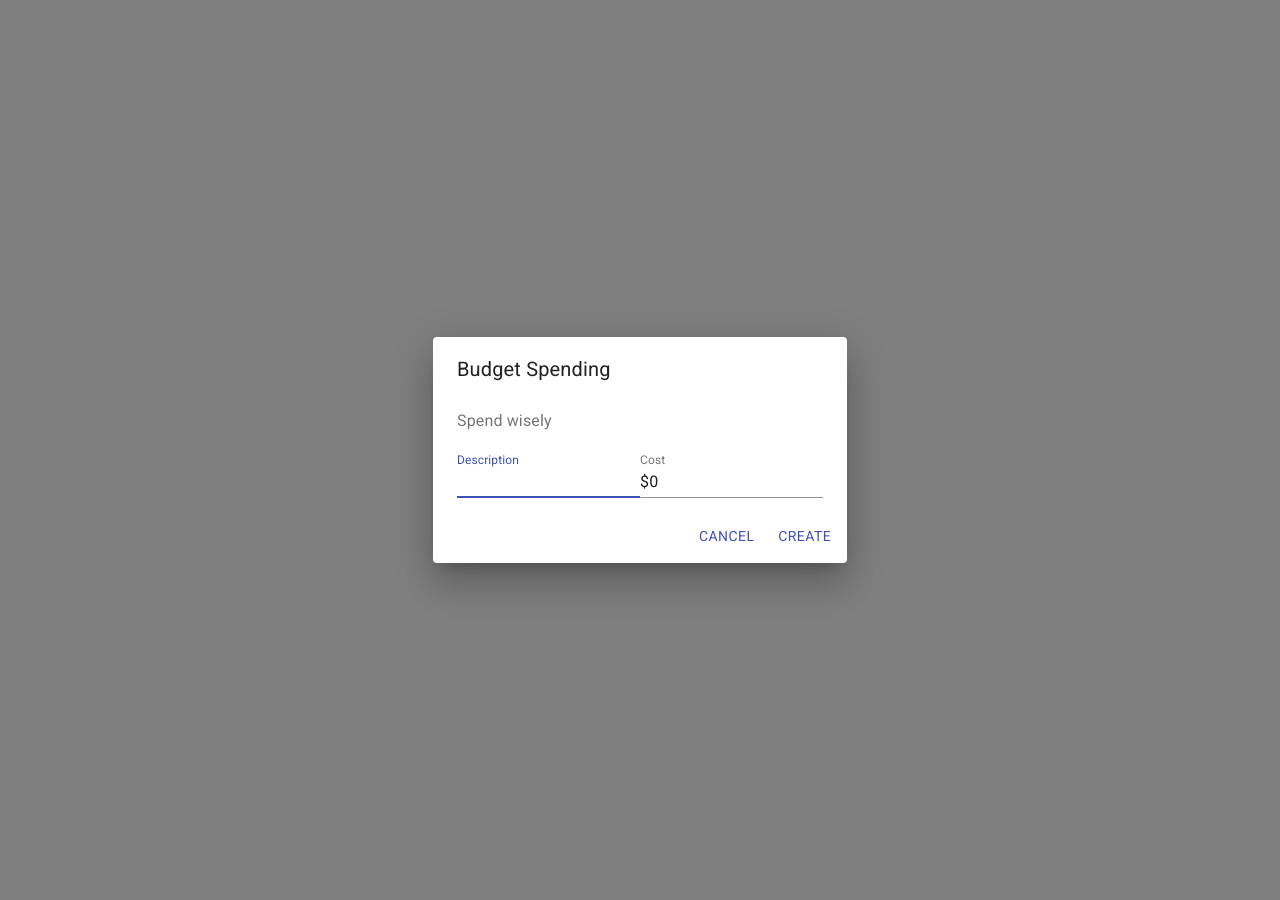
Scenario: SpendingFormDialog › should validate form data before submitting
Clear the field labelled "Cost" at (732, 484), box [640,469,823,498]
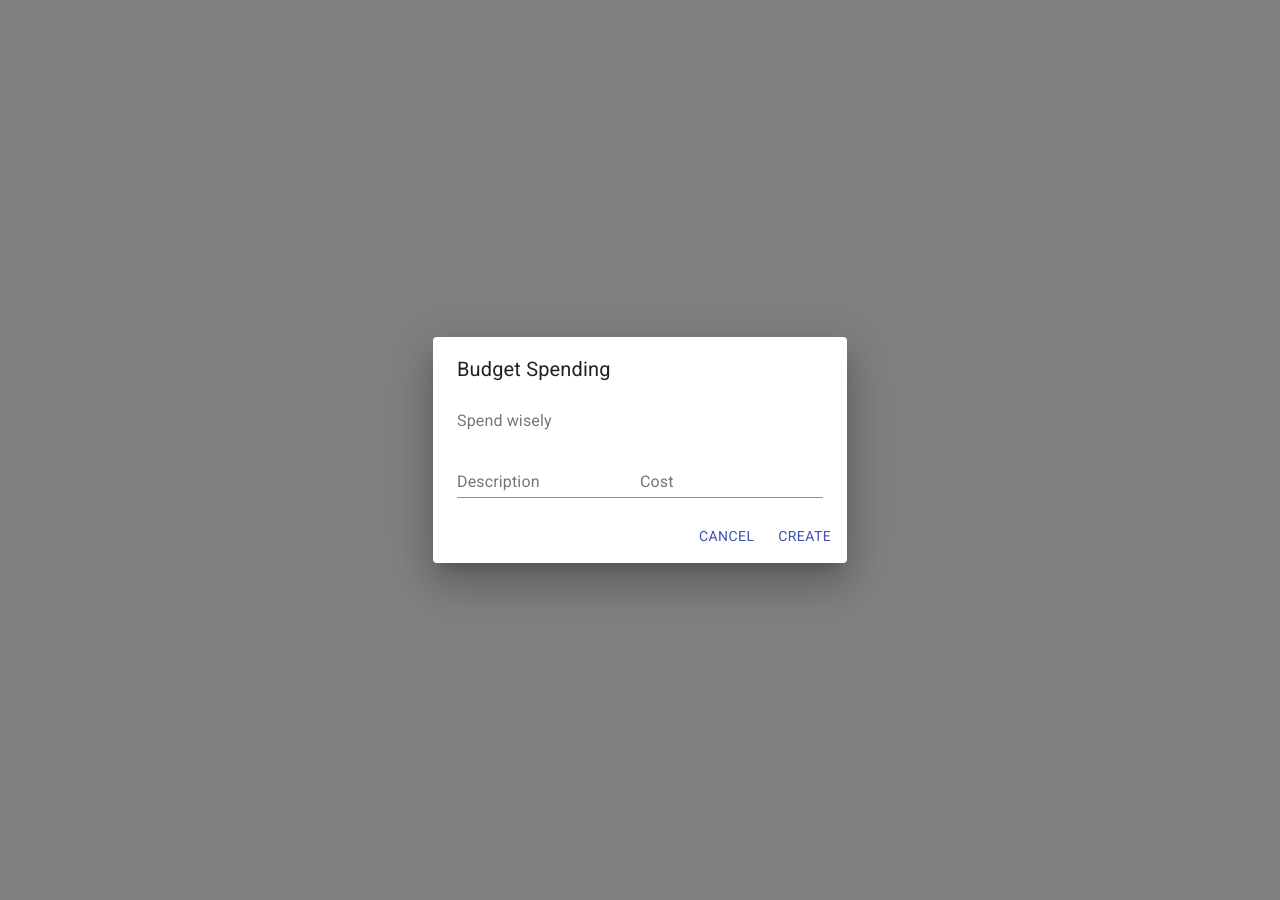
Click the button "Create" at (805, 537), box [770,518,839,555]
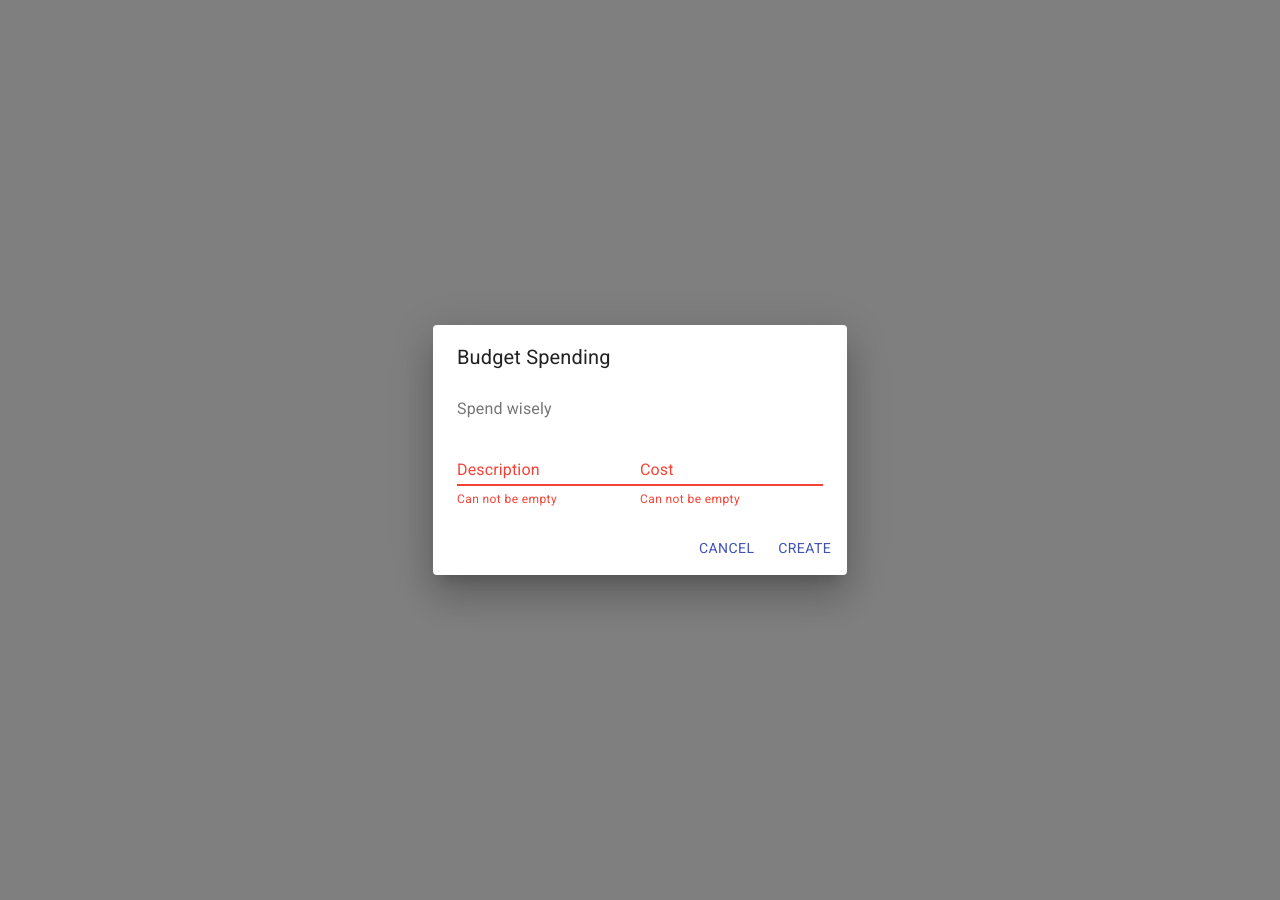
Check: the text "Can not be empty" below "Description" is shown, box [457,492,557,506]
Check: the text "Can not be empty" below "Cost" is shown, box [640,492,740,506]
